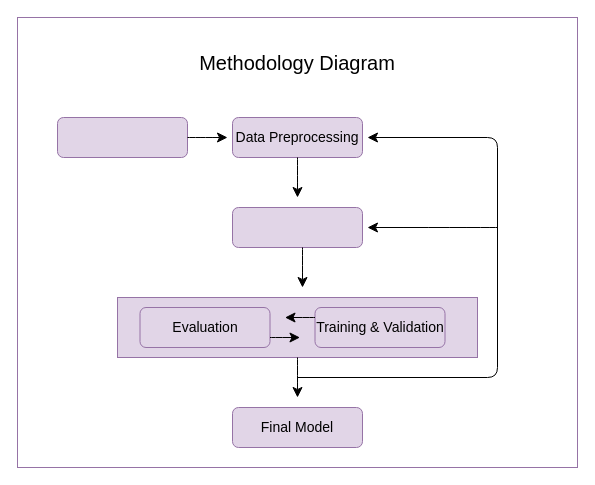
Image size: 595x485. Some labels were removed from this diagram. Each missing label, with the centre of its shape:
"Data Collection" belongs at point 122,137.
"Model Selection" belongs at point 297,227.
